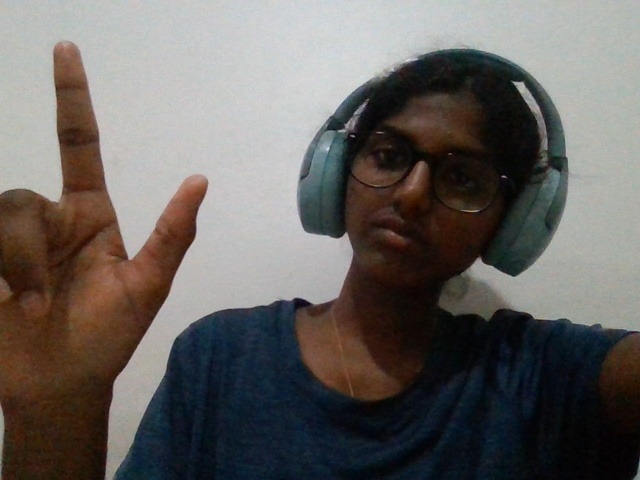I Love You: (2, 26, 216, 480)
